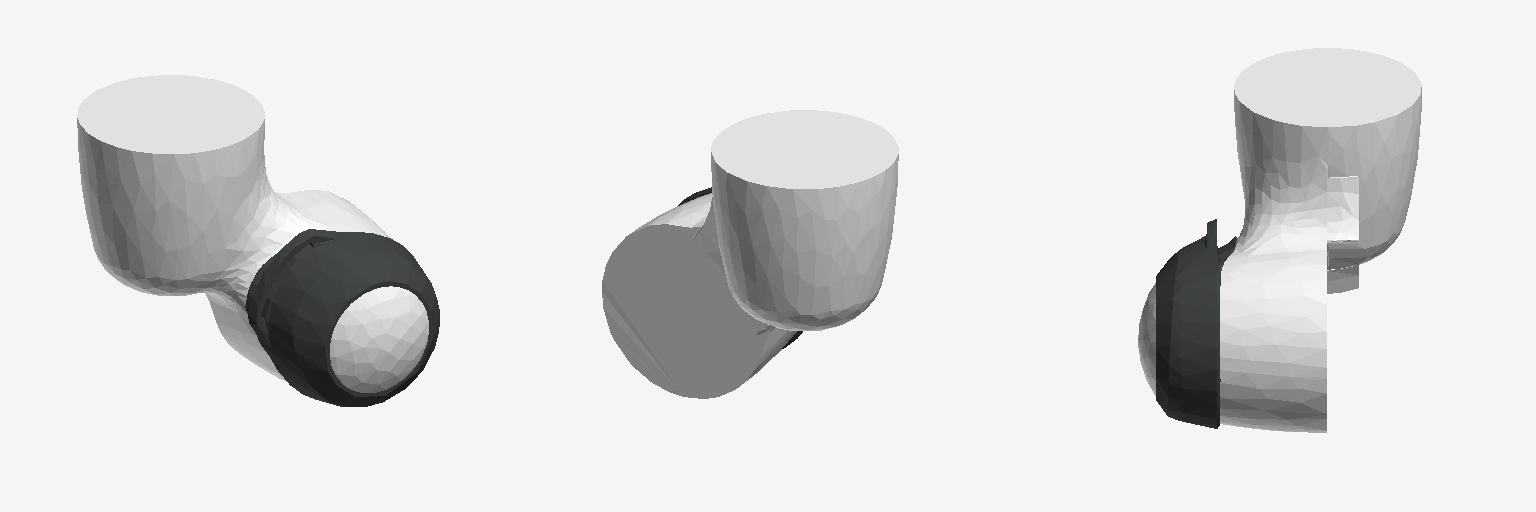
The picture shows the model from 3 angles: view 1: azimuth 30°, elevation 25°; view 2: azimuth 150°, elevation 25°; view 3: azimuth 270°, elevation 25°; orthographic projection.
Size of the model in its own units: 0.1927 by 0.1792 by 0.1658.
1 materials, 1 textured.